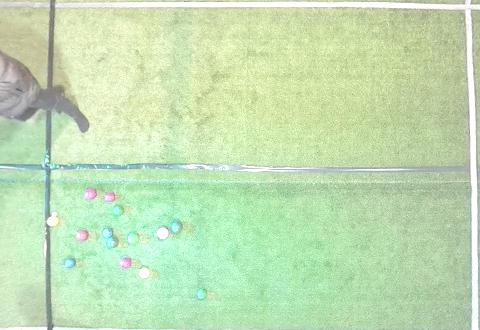blue: (64, 258, 76, 269), (102, 228, 113, 238)
green: (106, 237, 119, 249), (170, 221, 183, 233), (127, 233, 139, 245), (197, 289, 207, 300), (114, 205, 124, 215)
red: (119, 257, 132, 269), (157, 227, 169, 239), (85, 188, 97, 200), (76, 230, 89, 241), (105, 193, 116, 202)
vline: (1, 112, 51, 218), (463, 0, 479, 330), (1, 229, 53, 329), (1, 0, 56, 88)
white: (52, 212, 57, 216)
yellow: (47, 216, 59, 226), (139, 268, 150, 278)
